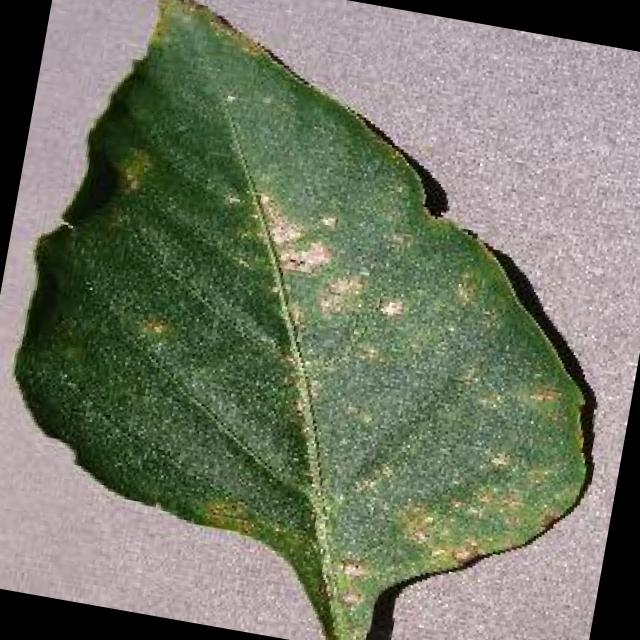Chilli_Bacterial_Spot: (0, 0, 640, 640), (238, 186, 343, 283), (310, 262, 372, 324), (192, 489, 263, 540), (106, 142, 154, 198), (134, 308, 177, 344), (520, 376, 562, 411), (371, 290, 408, 324), (481, 443, 516, 478)
